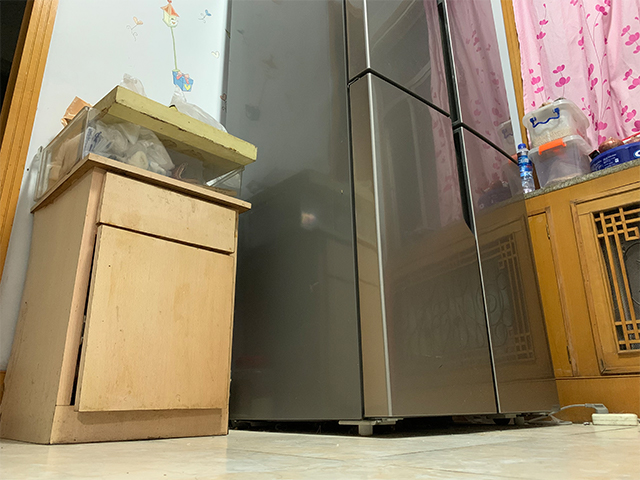cabinet: (1, 151, 261, 446)
wire: (523, 400, 610, 425)
